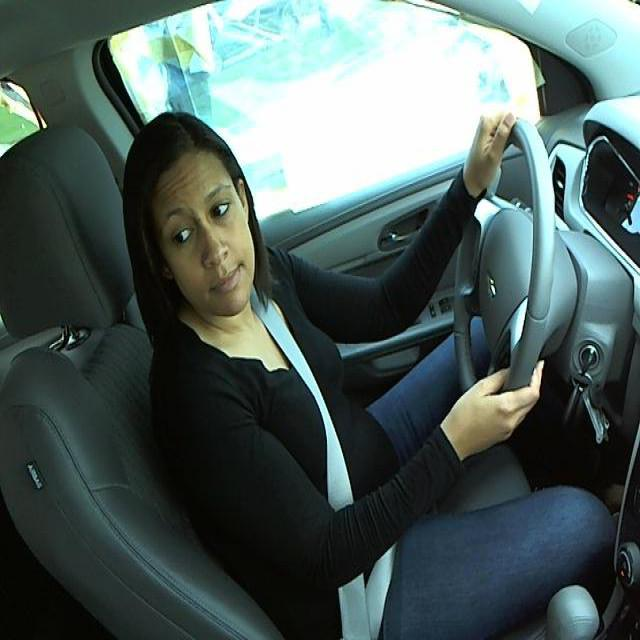seatbelt: (271, 305, 402, 632)
